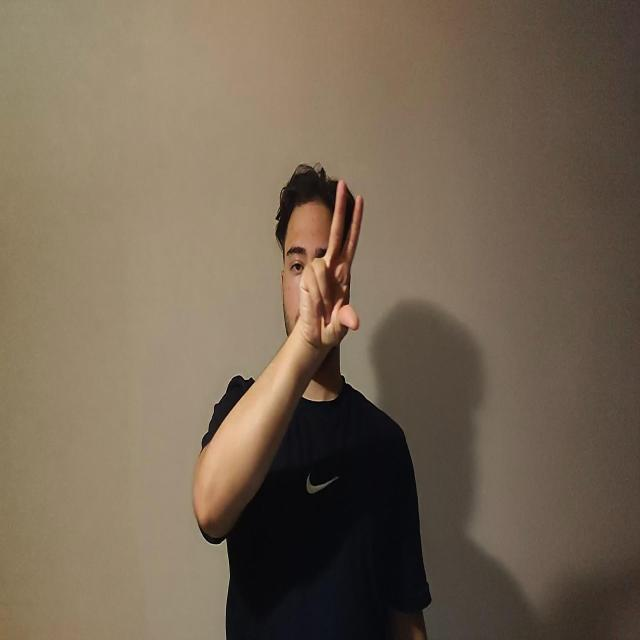no: (297, 179, 364, 352)
